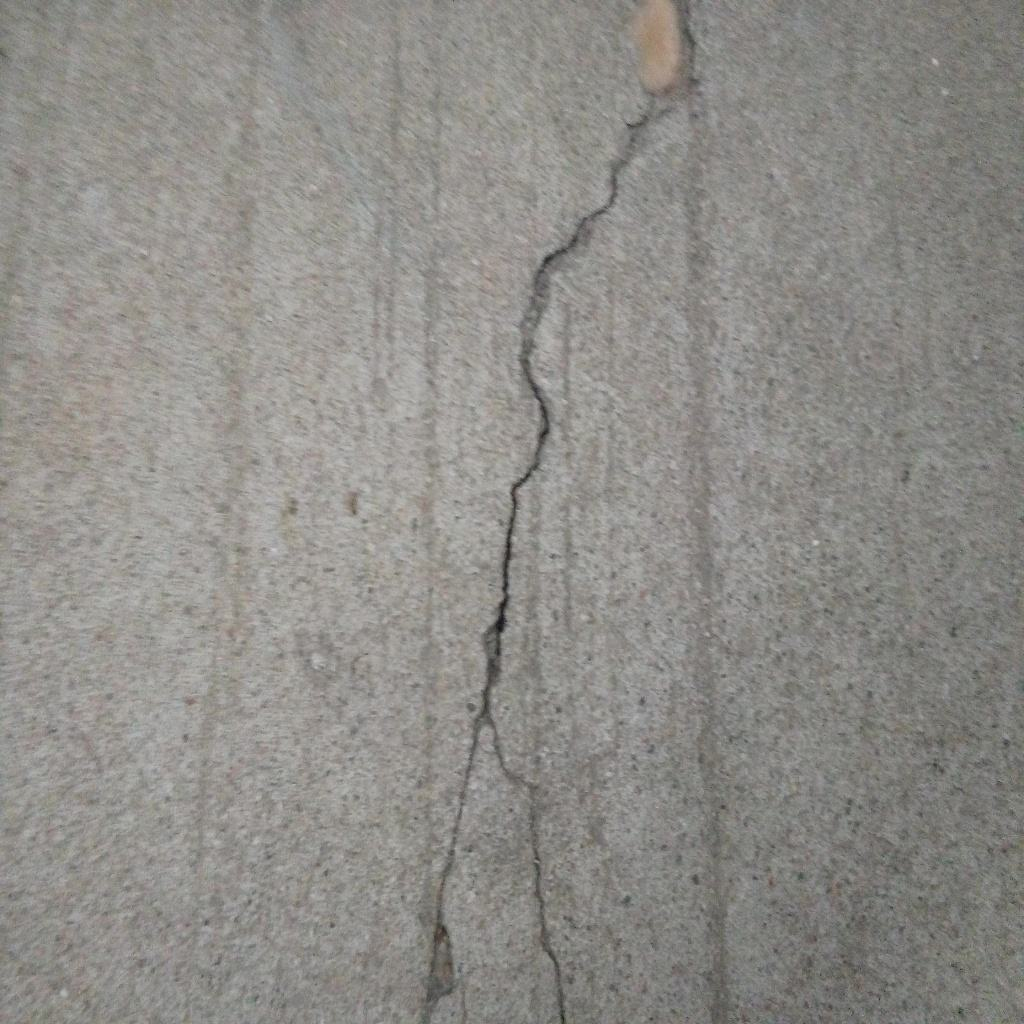Crack: (418, 98, 659, 1024)
Spalling: (629, 1, 695, 98)
